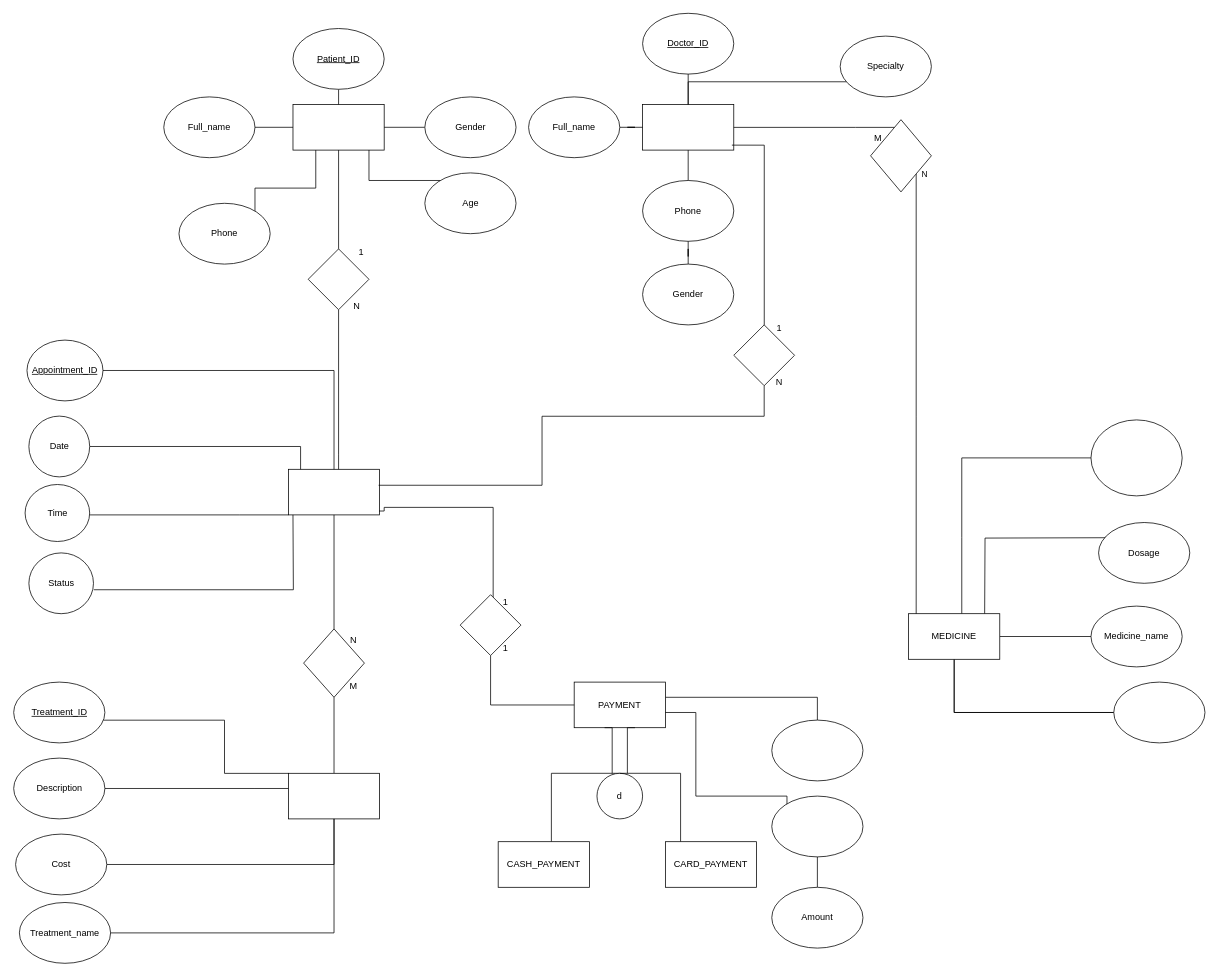
The diagram is 1218 pixels wide and 977 high, and some of its shapes have lost their labels. Here are the shapes that lost their labels. From the top down, the box of each, then its label:
(292, 104, 384, 150): PATIENT
(642, 104, 734, 150): DOCTOR
(870, 119, 931, 192): Prescribes
(307, 248, 369, 310): Book
(733, 324, 795, 386): Handles
(1090, 419, 1182, 496): Medicine _ID
(288, 469, 380, 515): APPOINTMENT
(459, 594, 521, 656): Makes
(303, 628, 364, 697): Includes
(1113, 681, 1205, 743): Price
(771, 719, 863, 781): Payment_ID
(288, 773, 380, 819): TREATMENT
(771, 795, 863, 857): Payment_Date
